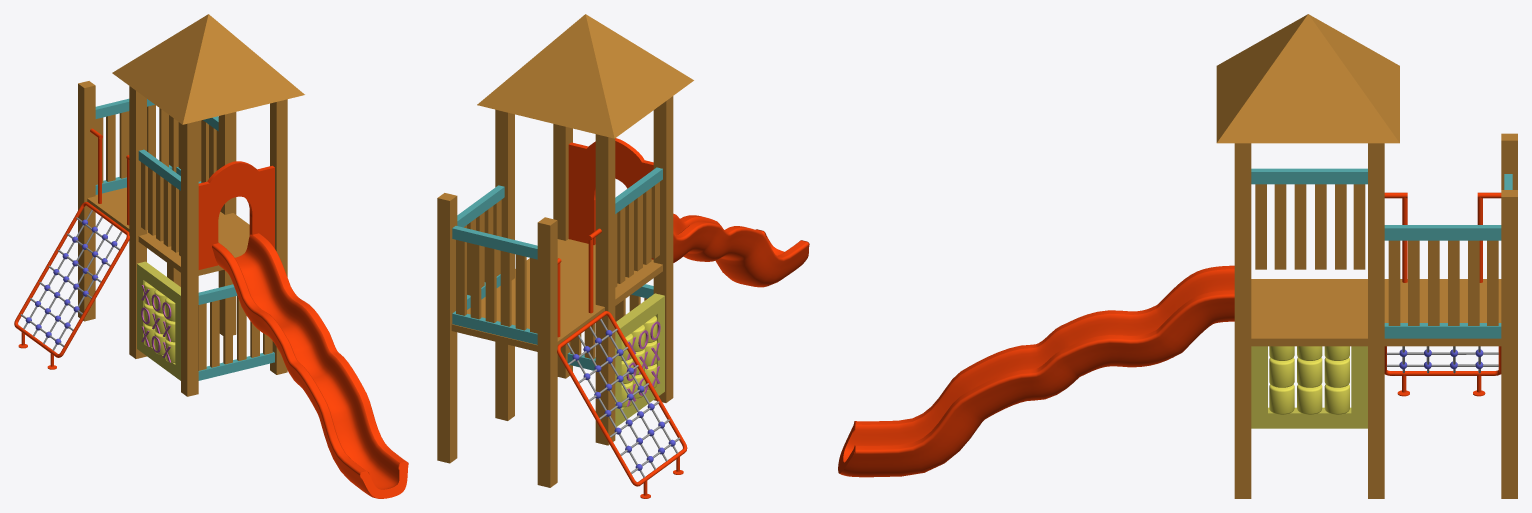
File: parque.fbx
The picture shows the model from 3 angles, left to right: view 1: azimuth 30°, elevation 25°; view 2: azimuth 150°, elevation 25°; view 3: azimuth 270°, elevation 25°; orthographic projection. The views are drawn at different scales.
Visible parts, largest first — view 1: Poste1; view 2: Poste1; view 3: Poste1.
Boxes of the visible parts, bbox=[...] form: Poste1: bbox=[14, 14, 408, 498]; Poste1: bbox=[437, 14, 809, 498]; Poste1: bbox=[838, 14, 1517, 498].
Size of the model in its own units: 12.27 by 22.46 by 30.22.
